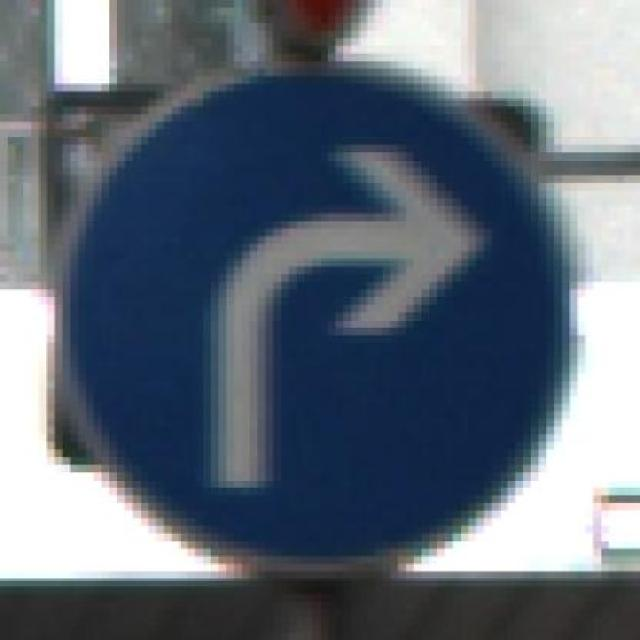Turn right ahead: (54, 61, 586, 572)
